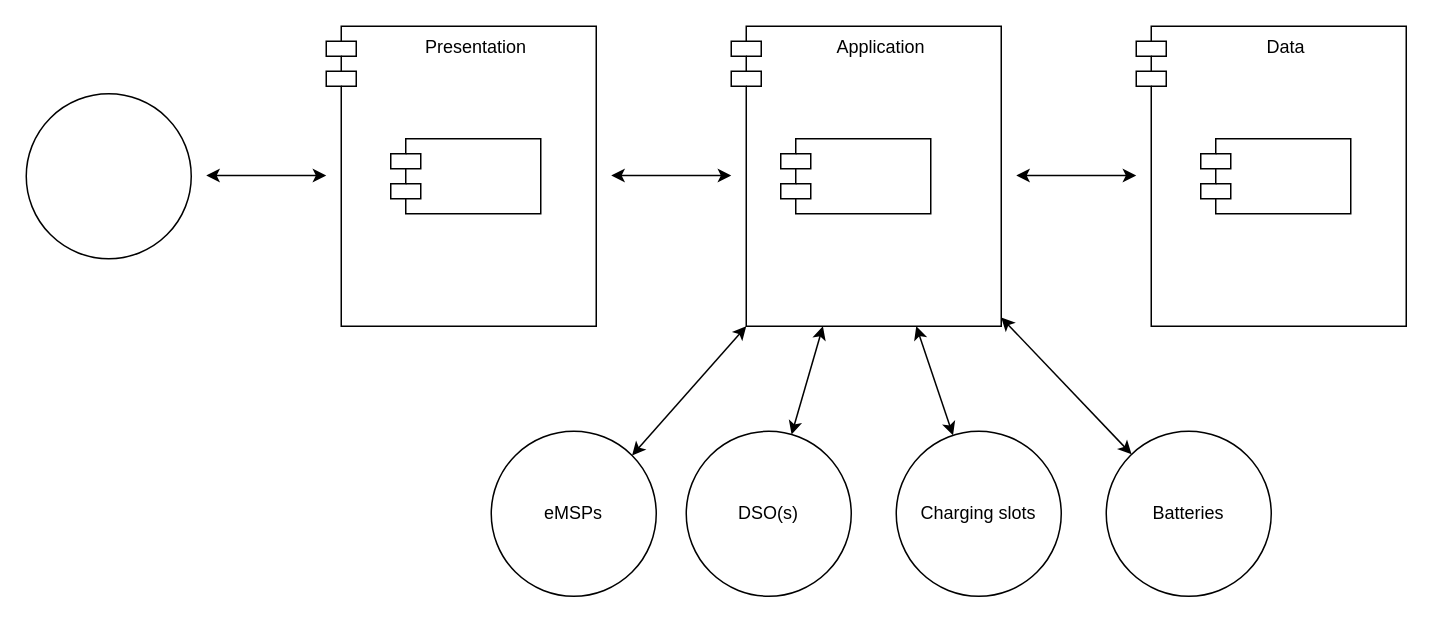
Some shapes in this 1433 by 623 pixel diagram are drawn without their labels. Each missing label, with the box of its shape:
Backend APP: (779, 137, 931, 214)
Client application: (389, 137, 541, 214)
DBMS: (1199, 137, 1351, 214)
User: (25, 92, 191, 259)
